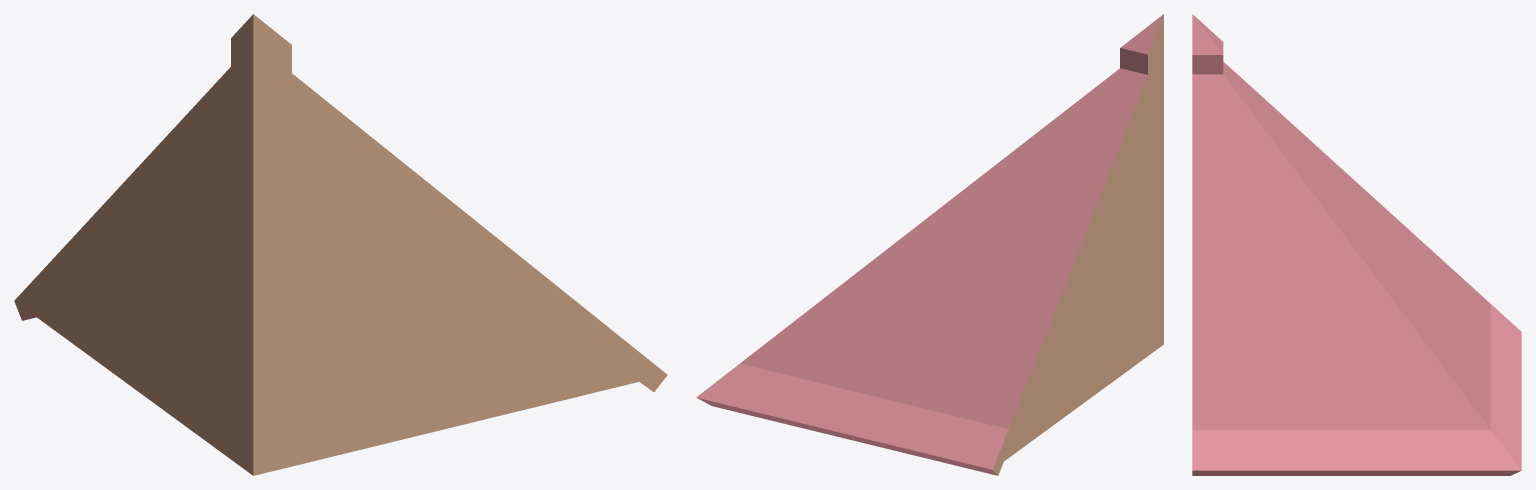
The model's file is roofHighCorner.glb.
The picture shows the model from 3 angles, left to right: view 1: azimuth 30°, elevation 25°; view 2: azimuth 150°, elevation 25°; view 3: azimuth 270°, elevation 25°; orthographic projection. The views are drawn at different scales.
Parts seen in each view (by area): view 1: roofHighCorner; view 2: roofHighCorner; view 3: roofHighCorner.
Boxes of the visible parts, left/top/right/bottom form: roofHighCorner: left=14, top=14, right=667, bottom=475; roofHighCorner: left=696, top=14, right=1163, bottom=475; roofHighCorner: left=1192, top=14, right=1521, bottom=475.
Size of the model in its own units: 1.07 by 1.18 by 1.07.
